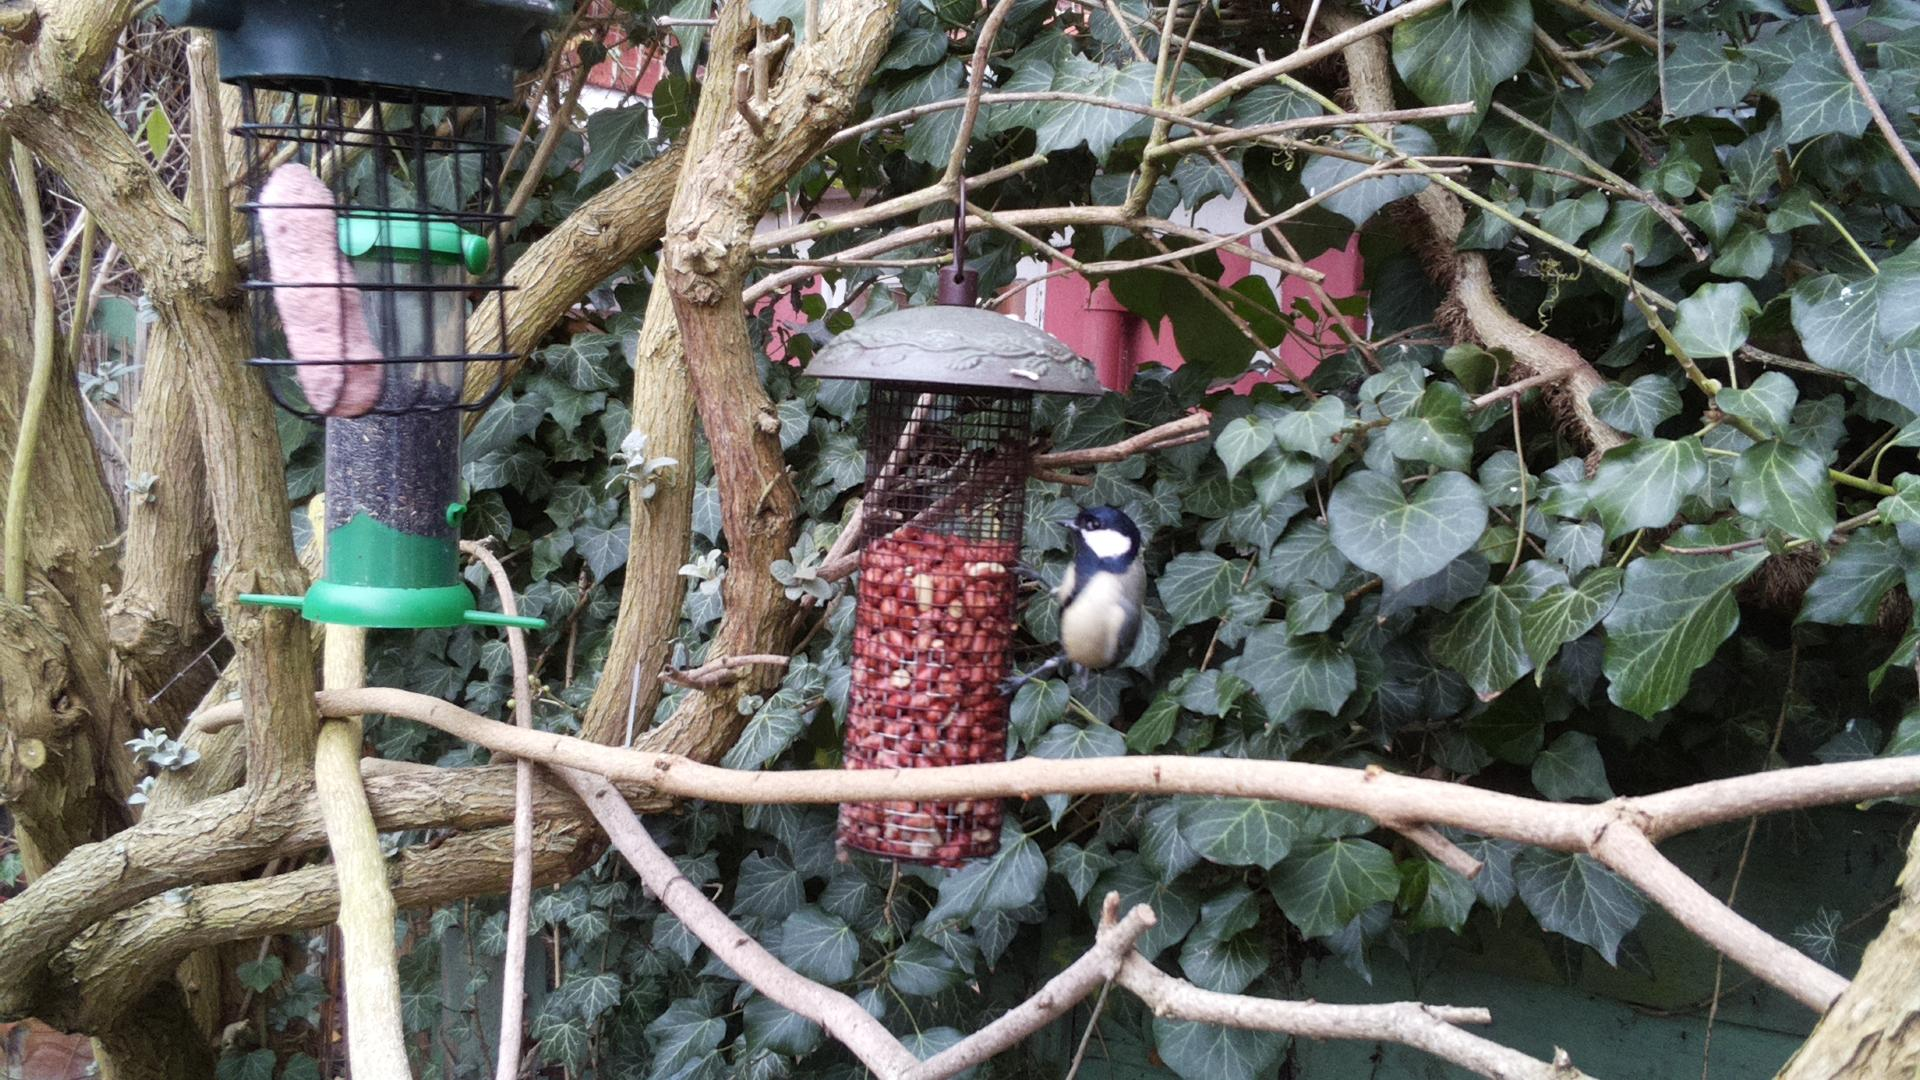great tit: (992, 502, 1149, 698)
